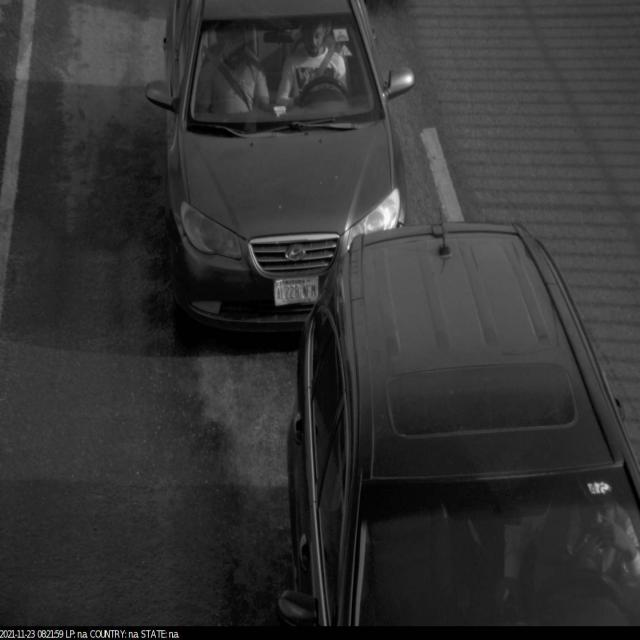windshield: (354, 447, 640, 630), (181, 0, 388, 143)
